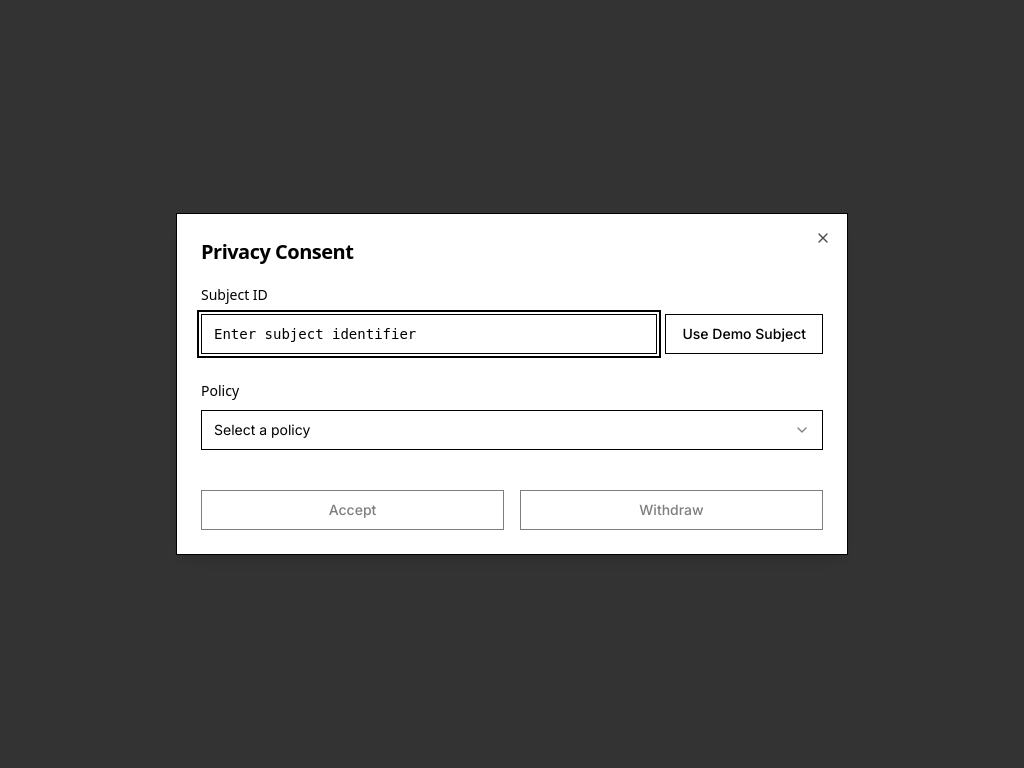
Scenario: Demo Flow Integration Tests › ConsentModal Component › should generate demo subject ID
The image size is (1024, 768).
Click the button "Use Demo Subject" at [744, 334], box [666, 314, 823, 354]
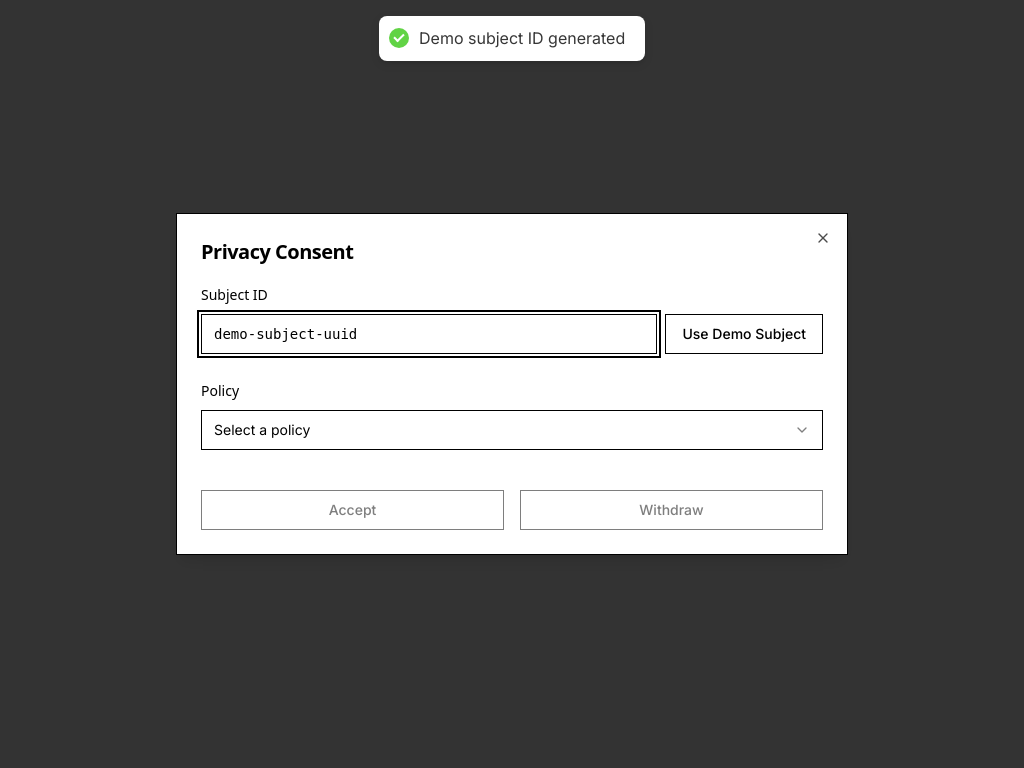
Expected: the field with placeholder "Enter subject identifier" holds "demo-subject-uuid", [201, 314, 658, 354]
